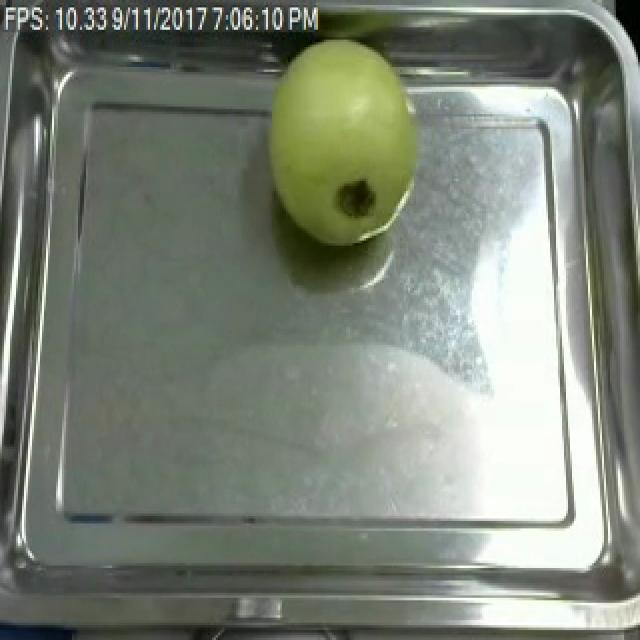Fruit: (258, 30, 432, 255)
